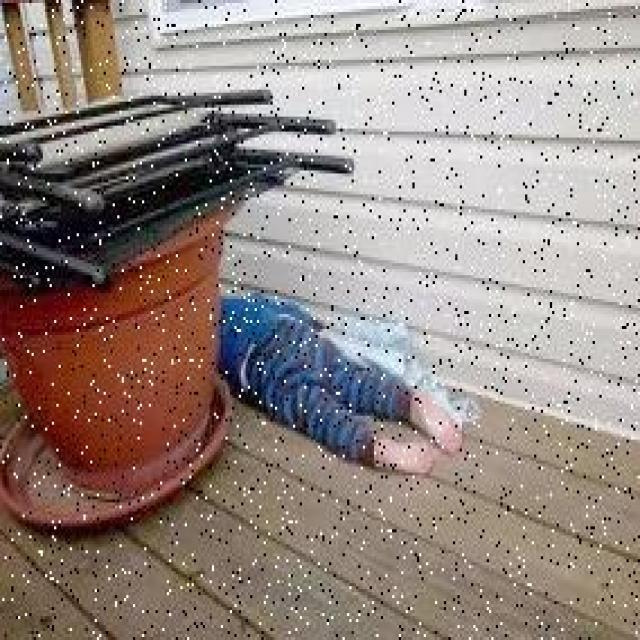fall: (218, 282, 454, 478)
